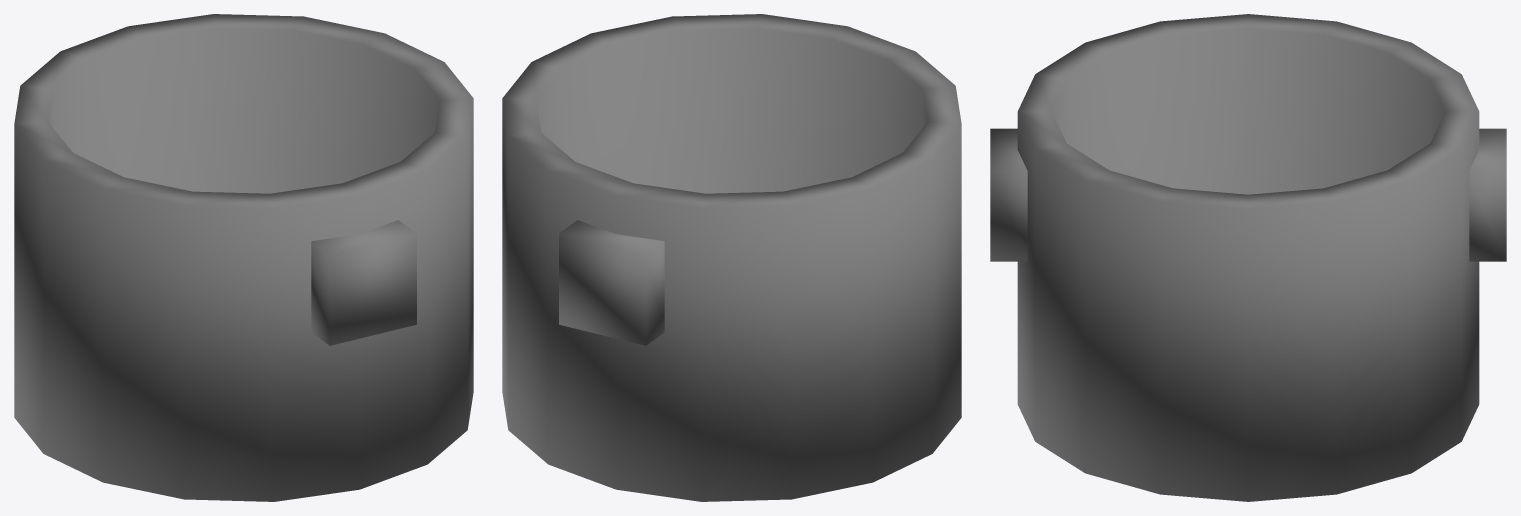
Rendered from pot.fbx.
The picture shows the model from 3 angles, left to right: view 1: azimuth 30°, elevation 25°; view 2: azimuth 150°, elevation 25°; view 3: azimuth 270°, elevation 25°; orthographic projection.
Parts seen in each view (by area): view 1: PotEmpty; view 2: PotEmpty; view 3: PotEmpty.
Part boxes in pixels (<box>): PotEmpty: <box>14,14,473,501</box>; PotEmpty: <box>502,14,961,501</box>; PotEmpty: <box>990,14,1506,501</box>.
Size of the model in its own units: 60 by 42 by 67.06.
